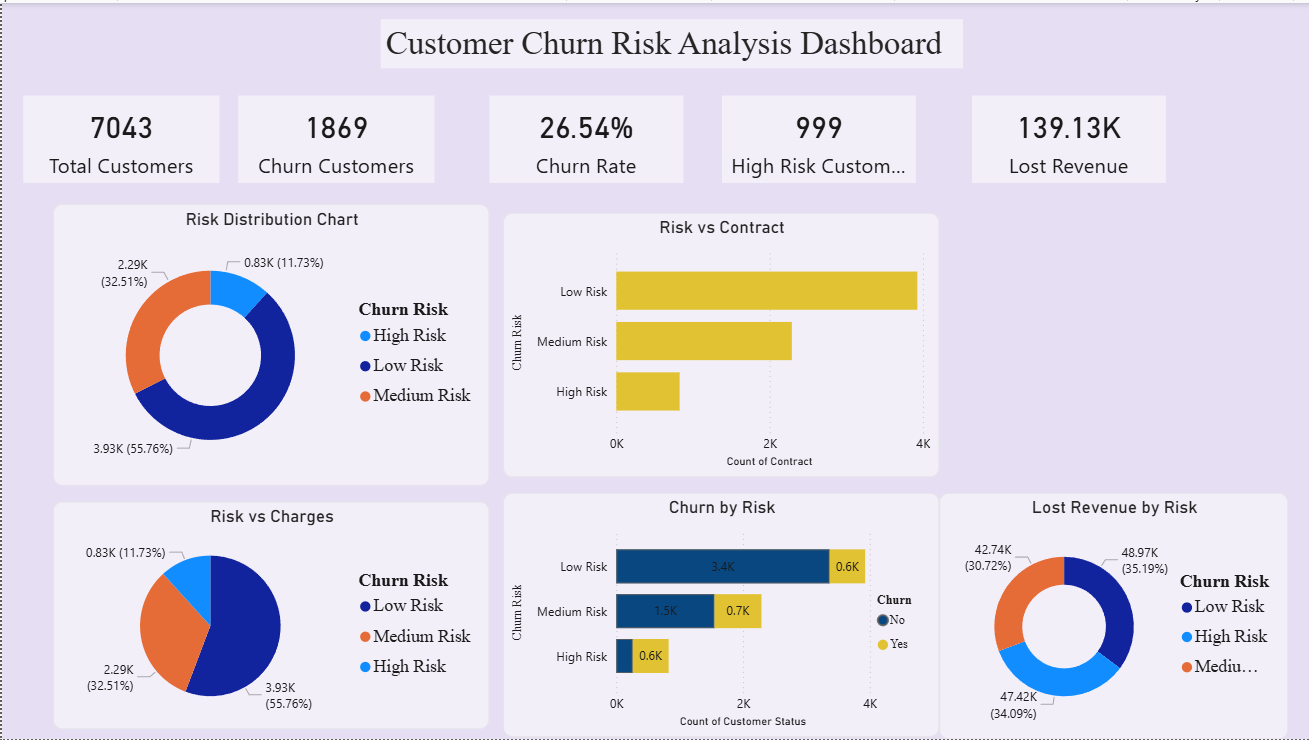

The dashboard page shown, as its layout file describes it:
{"tool":"powerbi","page":{"name":"Churn Risk","canvas":[1280,720],"ordinal":3},"visuals":[{"type":"card","fields":{"Values":["Telco_customer_churn.High Risk Customers"]},"box":[704.4,90.5,189.5,85.6],"z":0},{"type":"card","fields":{"Values":["Telco_customer_churn.Churn Customers"]},"box":[231.1,90.5,192,85.6],"z":1000},{"type":"card","fields":{"Values":["Telco_customer_churn.Churn Rate"]},"box":[476.9,90.5,189.5,85.6],"z":2000},{"type":"card","fields":{"Values":["Telco_customer_churn.Total Customers"]},"box":[20.8,90.5,192,85.6],"z":3000},{"type":"donutChart","title":"Risk Distribution Chart","fields":{"Y":["CountNonNull(Telco_customer_churn.CustomerID)"],"Series":["Telco_customer_churn.Churn Risk"]},"box":[50.1,196.9,426.8,275.1],"z":4000},{"type":"barChart","title":"Churn by Risk","fields":{"Category":["Telco_customer_churn.Churn Risk"],"Y":["CountNonNull(Telco_customer_churn.Customer Status)"],"Series":["Telco_customer_churn.Churn"]},"box":[490.4,479.4,426.8,238.5],"z":5000},{"type":"barChart","title":"Risk vs Contract","fields":{"Category":["Telco_customer_churn.Churn Risk"],"Y":["CountNonNull(Telco_customer_churn.Contract)"]},"box":[490.4,205.4,426.8,258],"z":6000},{"type":"pieChart","title":"Risk vs Charges","fields":{"Category":["Telco_customer_churn.Churn Risk"],"Y":["CountNonNull(Telco_customer_churn.Monthly charges Category)"]},"box":[50.1,487.9,426.8,222.6],"z":7000},{"type":"card","fields":{"Values":["Telco_customer_churn.Lost Revenue"]},"box":[948.9,90.5,189.5,85.6],"z":8000},{"type":"donutChart","title":"Lost Revenue by Risk","fields":{"Y":["Telco_customer_churn.Lost Revenue"],"Category":["Telco_customer_churn.Churn Risk"]},"box":[917.1,479.4,341.2,240.9],"z":9000},{"type":"textbox","box":[370.5,15.9,569.8,47.7],"z":9001}]}

Visuals, with their boxes in screenshot pixels (x1, y1, x2, y2), scaled from the page's 1280x720 canvas onto the 1309x740 screenshot:
card - Telco_customer_churn.High Risk Customers: select_region(720, 93, 914, 181)
card - Telco_customer_churn.Churn Customers: select_region(236, 93, 433, 181)
card - Telco_customer_churn.Churn Rate: select_region(488, 93, 681, 181)
card - Telco_customer_churn.Total Customers: select_region(21, 93, 218, 181)
"Risk Distribution Chart" donutChart: select_region(51, 202, 488, 485)
"Churn by Risk" barChart: select_region(502, 493, 938, 738)
"Risk vs Contract" barChart: select_region(502, 211, 938, 476)
"Risk vs Charges" pieChart: select_region(51, 501, 488, 730)
card - Telco_customer_churn.Lost Revenue: select_region(970, 93, 1164, 181)
"Lost Revenue by Risk" donutChart: select_region(938, 493, 1287, 739)
textbox: select_region(379, 16, 962, 65)
